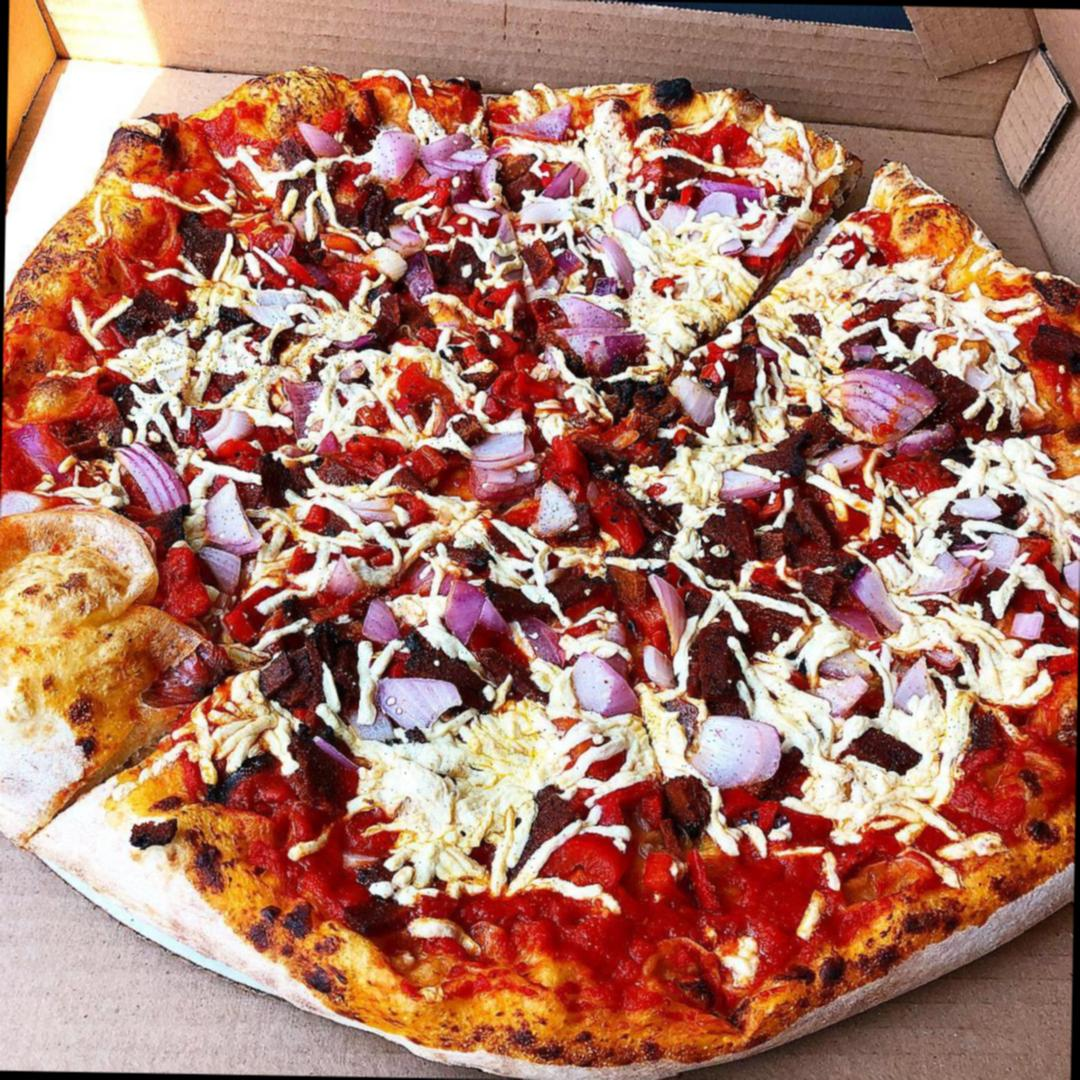Cheese: (742, 606, 980, 805), (359, 718, 586, 910), (653, 228, 856, 392), (121, 314, 352, 410), (550, 113, 664, 215)
Onion: (327, 110, 515, 198), (812, 568, 911, 710), (822, 370, 956, 453), (442, 590, 566, 662), (540, 286, 649, 366), (678, 727, 794, 792), (197, 483, 263, 588), (319, 565, 404, 645), (108, 437, 190, 516), (576, 652, 639, 718), (525, 475, 579, 544), (714, 476, 770, 505)
Peppers: (362, 362, 492, 493)
Pizza: (0, 73, 1080, 1080)
